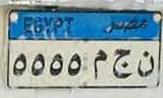5: (67, 52, 82, 78), (31, 52, 47, 76), (12, 54, 29, 76), (49, 53, 64, 76)
jeem: (110, 48, 133, 79)
meem: (89, 48, 108, 79)
noon: (137, 50, 156, 76)
